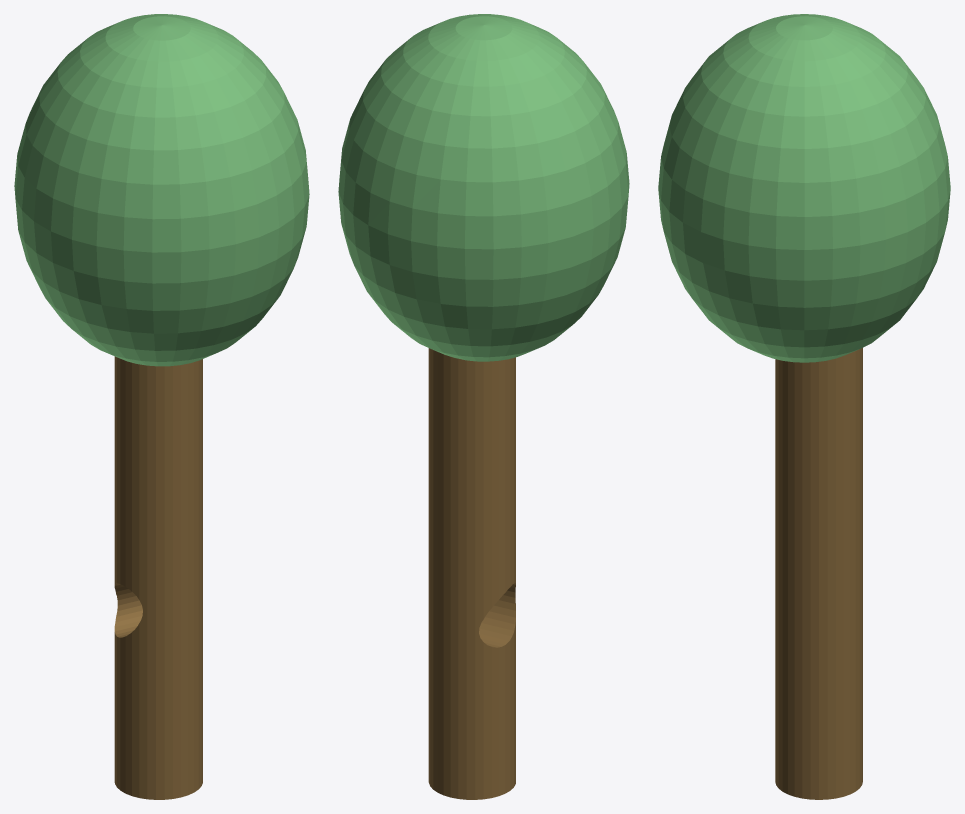
File: arbolito3.gltf
3 renders of one model, left to right at view 1: azimuth 30°, elevation 25°; view 2: azimuth 150°, elevation 25°; view 3: azimuth 270°, elevation 25°, orthographic.
Parts seen in each view (by area): view 1: Mesh_Mesh_head_geo.001_lambert2SG.003; view 2: Mesh_Mesh_head_geo.001_lambert2SG.003; view 3: Mesh_Mesh_head_geo.001_lambert2SG.003.
Part boxes in pixels (<box>): Mesh_Mesh_head_geo.001_lambert2SG.003: <box>14,14,309,799</box>; Mesh_Mesh_head_geo.001_lambert2SG.003: <box>338,14,629,799</box>; Mesh_Mesh_head_geo.001_lambert2SG.003: <box>658,14,950,799</box>.
Size of the model in its own units: 45 by 128 by 45.
